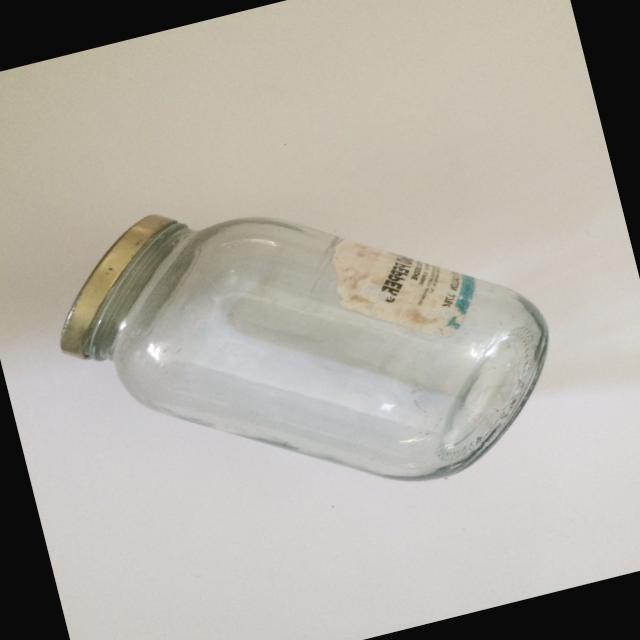Glass: (28, 121, 587, 567)
